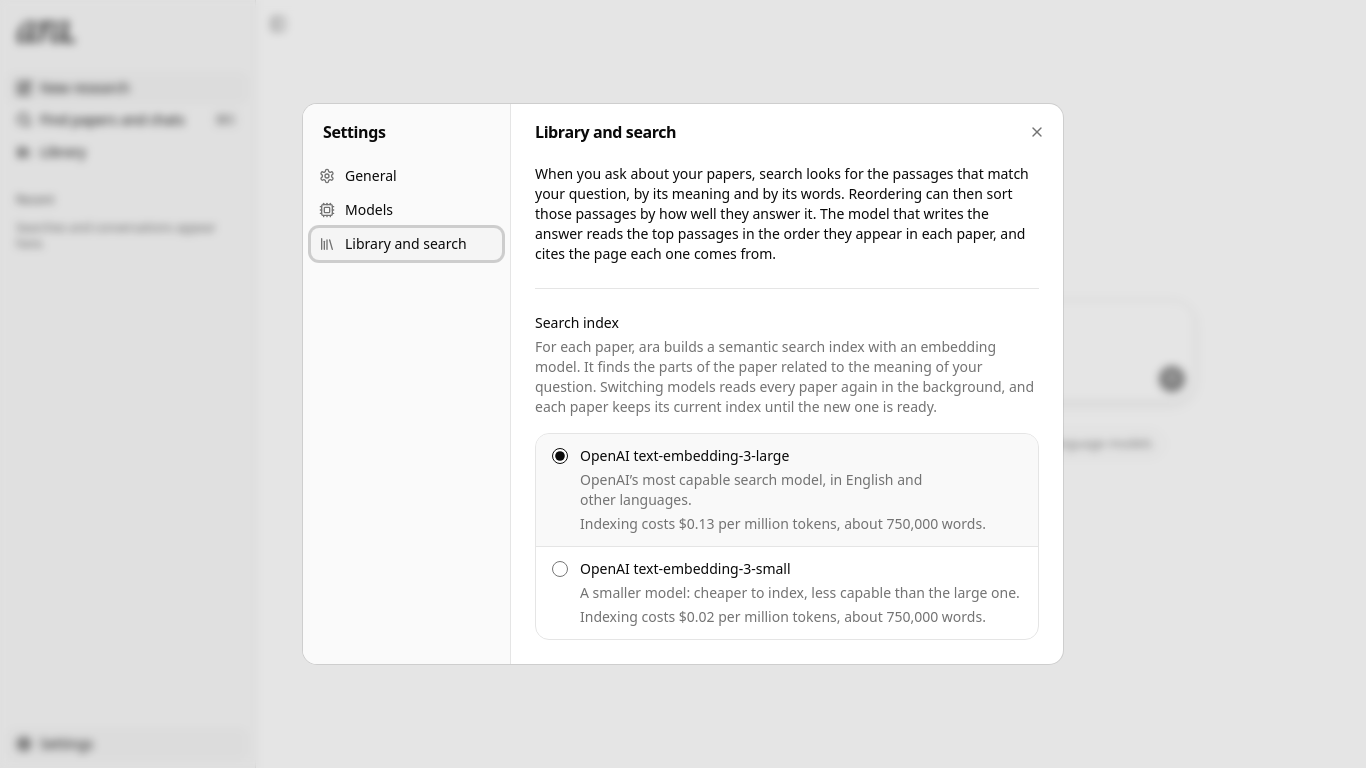
Test: Given the rebuild dialog, When Cancel is pressed, Then nothing is saved and the saved model stays chosen
The image size is (1366, 768).
Click the radio button labelled "OpenAI text-embedding-3-small" at (560, 569), box [552, 561, 568, 577]
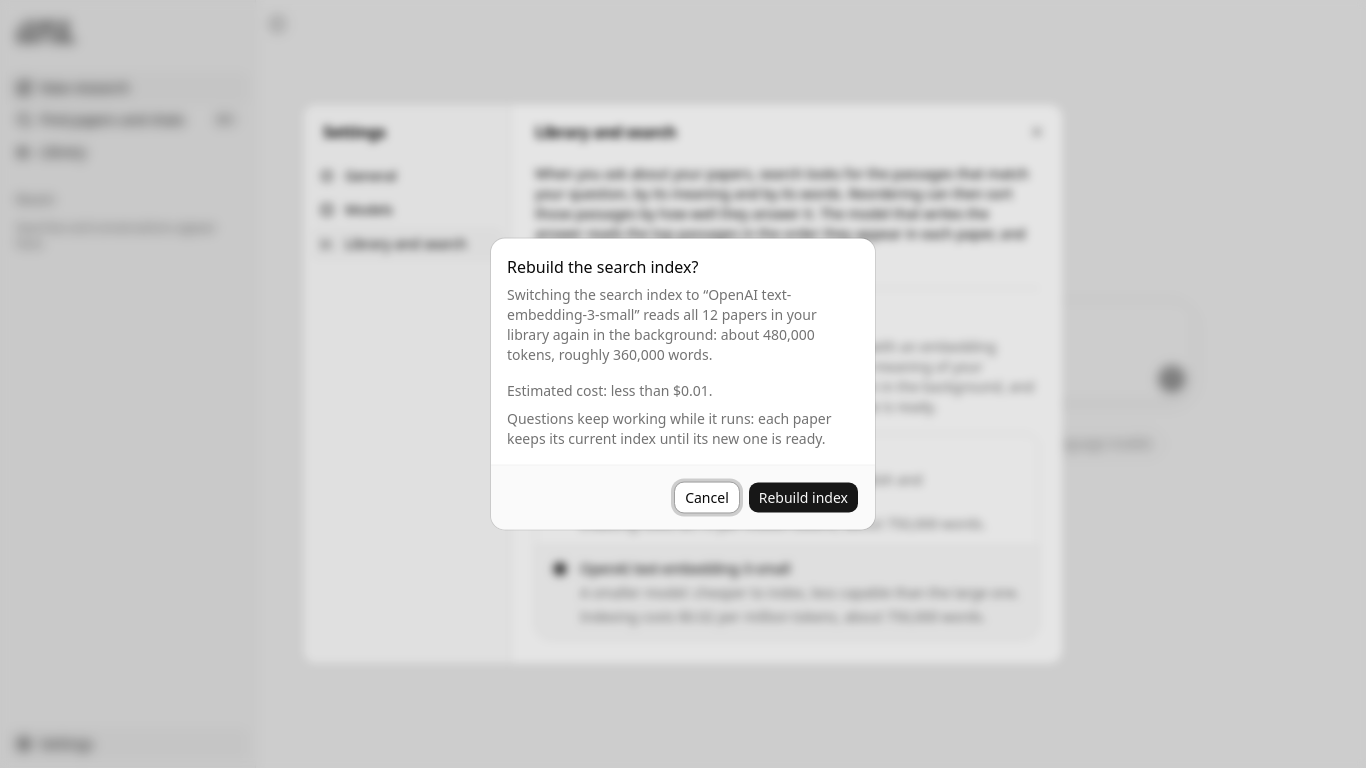
Click the button "Cancel" at (707, 498), box [674, 482, 740, 514]
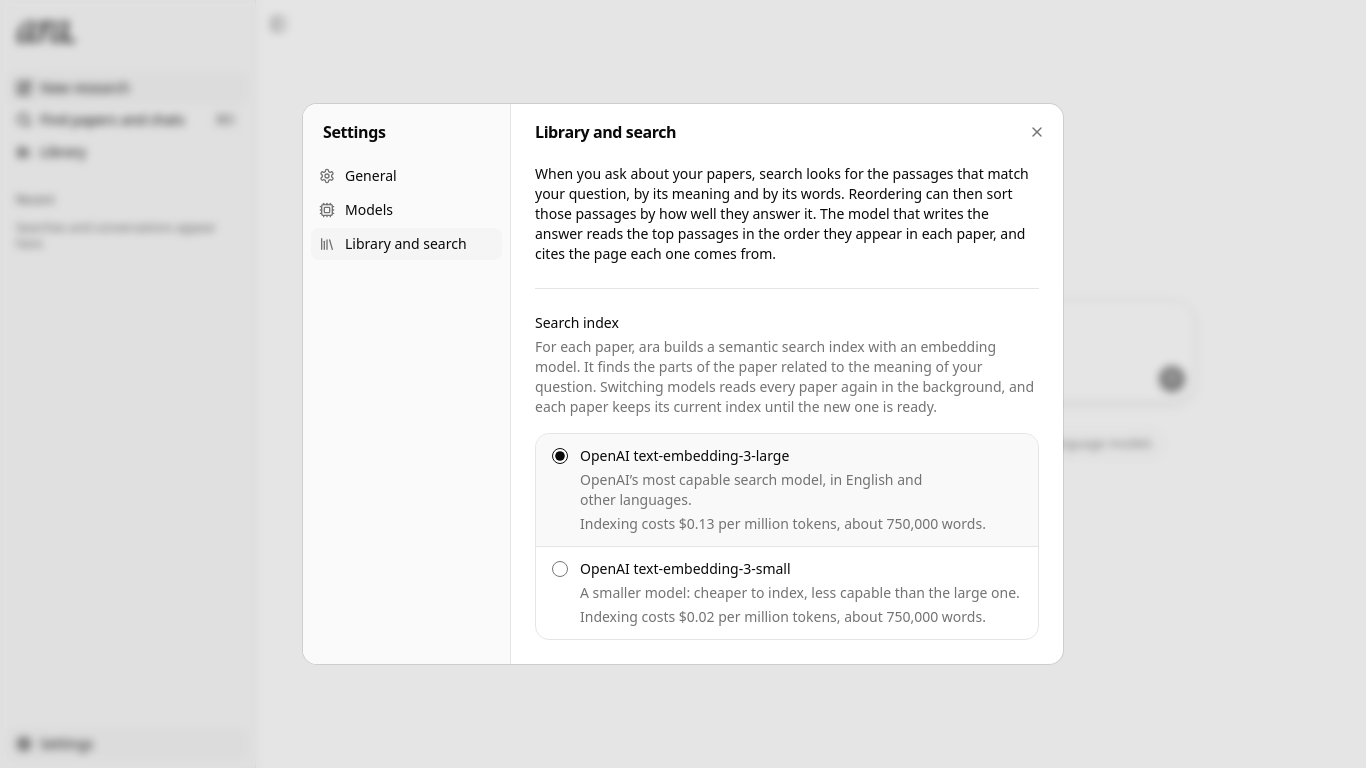
Expected: the dialog "Settings" is shown, [303, 104, 1063, 664]
Expected: the radio button labelled "OpenAI text-embedding-3-small" is not checked, [552, 561, 568, 577]
Expected: the radio button labelled "OpenAI text-embedding-3-large" is checked, [552, 448, 568, 464]
